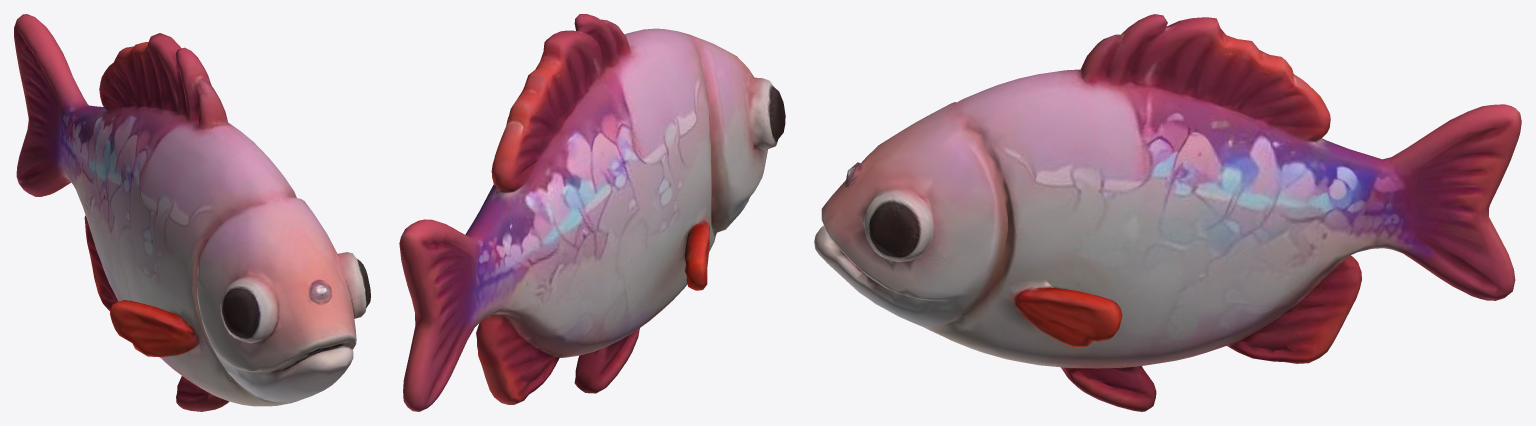
Rendered from gakshi.glb.
3 views of the same model, side by side, from view 1: azimuth 30°, elevation 25°; view 2: azimuth 150°, elevation 25°; view 3: azimuth 270°, elevation 25° (orthographic). The views are drawn at different scales.
Visible parts, largest first — view 1: tripo_node_5ef36892-aa59-4c84-be73-d0026d1f8a5d; view 2: tripo_node_5ef36892-aa59-4c84-be73-d0026d1f8a5d; view 3: tripo_node_5ef36892-aa59-4c84-be73-d0026d1f8a5d.
Part boxes in pixels (x1,y1,x2,y2): tripo_node_5ef36892-aa59-4c84-be73-d0026d1f8a5d: (14,14,370,411); tripo_node_5ef36892-aa59-4c84-be73-d0026d1f8a5d: (399,14,785,411); tripo_node_5ef36892-aa59-4c84-be73-d0026d1f8a5d: (814,14,1521,411).
Bounding box in the file's own units: 0.3375 × 0.6156 × 1.
1 material, 1 textured.
